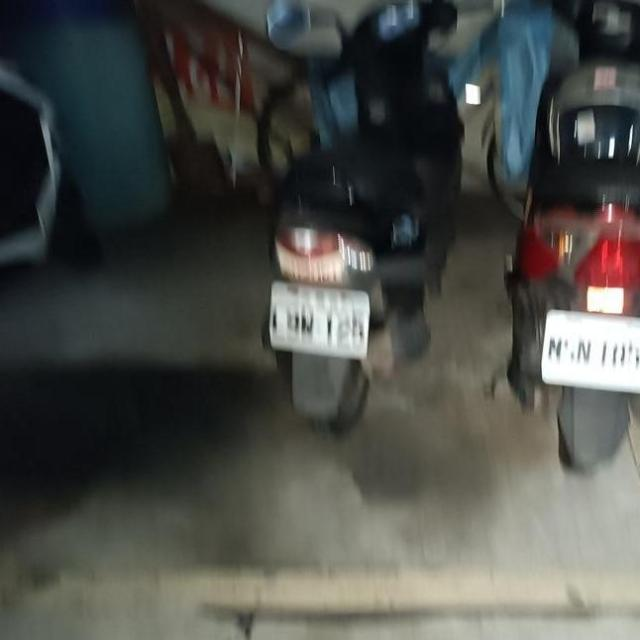W: (258, 266, 378, 370), (534, 296, 640, 404)
